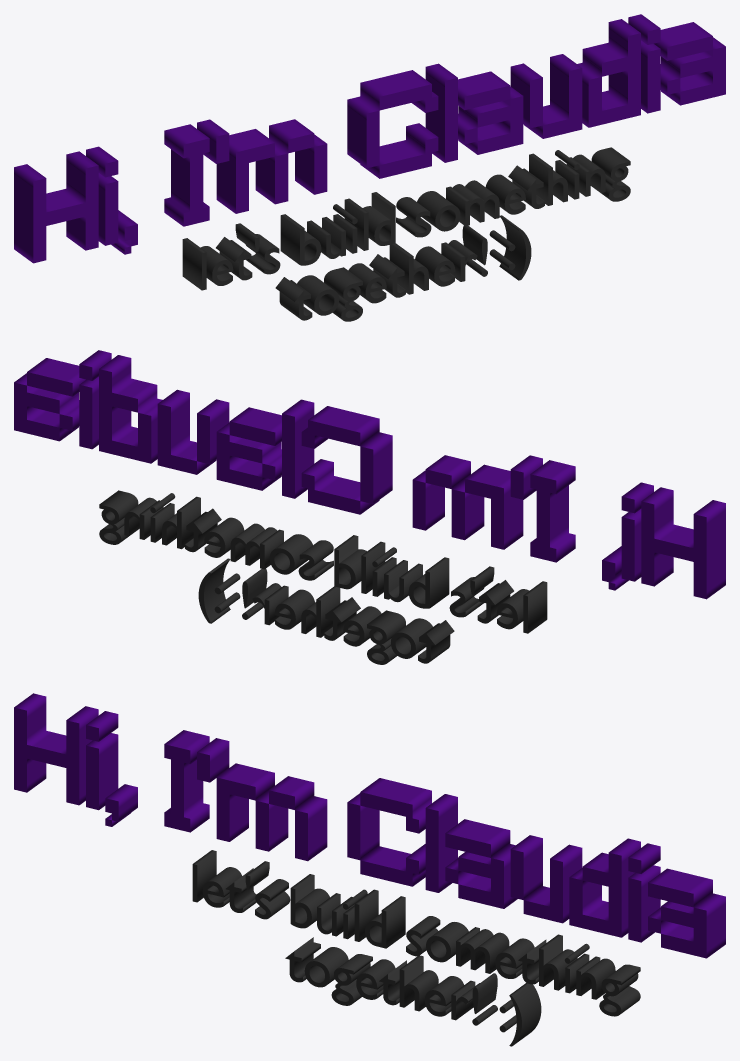
File: claudia-name.glb
The picture shows the model from 3 angles, top to bottom: view 1: azimuth 30°, elevation 25°; view 2: azimuth 150°, elevation 25°; view 3: azimuth 330°, elevation 25°; orthographic projection.
Visible parts, largest first — view 1: Oggetto, Testo; view 2: Oggetto, Testo; view 3: Oggetto, Testo.
Boxes of the visible parts, left/top/right/bottom form: Oggetto: left=14, top=14, right=725, bottom=263; Testo: left=182, top=147, right=630, bottom=321; Oggetto: left=14, top=350, right=725, bottom=599; Testo: left=99, top=490, right=547, bottom=664; Oggetto: left=14, top=693, right=725, bottom=958; Testo: left=192, top=850, right=640, bottom=1046.
Size of the model in its own units: 6.62 by 2.03 by 0.4022.
